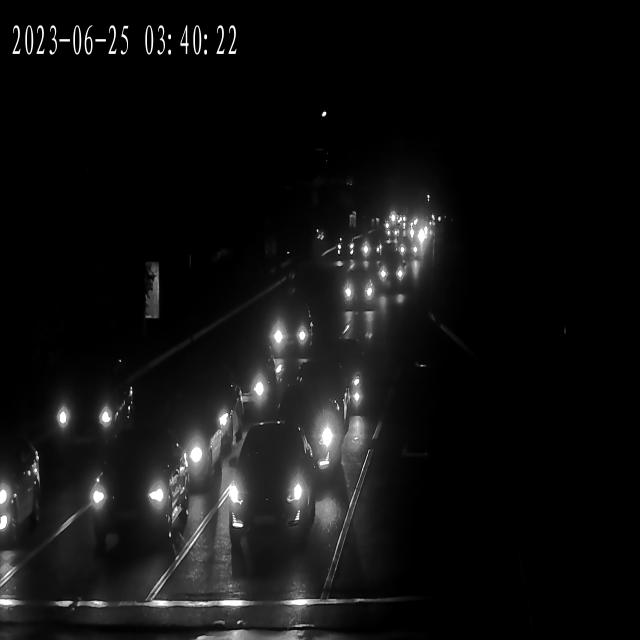Car: (222, 422, 314, 570), (90, 442, 193, 559), (58, 345, 133, 450), (154, 405, 222, 497), (285, 372, 344, 475), (0, 424, 40, 543), (228, 356, 276, 440), (213, 366, 243, 464), (267, 299, 320, 352), (336, 267, 374, 313), (374, 254, 406, 296), (398, 236, 422, 277), (395, 212, 421, 244), (335, 224, 360, 253), (371, 217, 389, 250), (414, 226, 437, 245)
